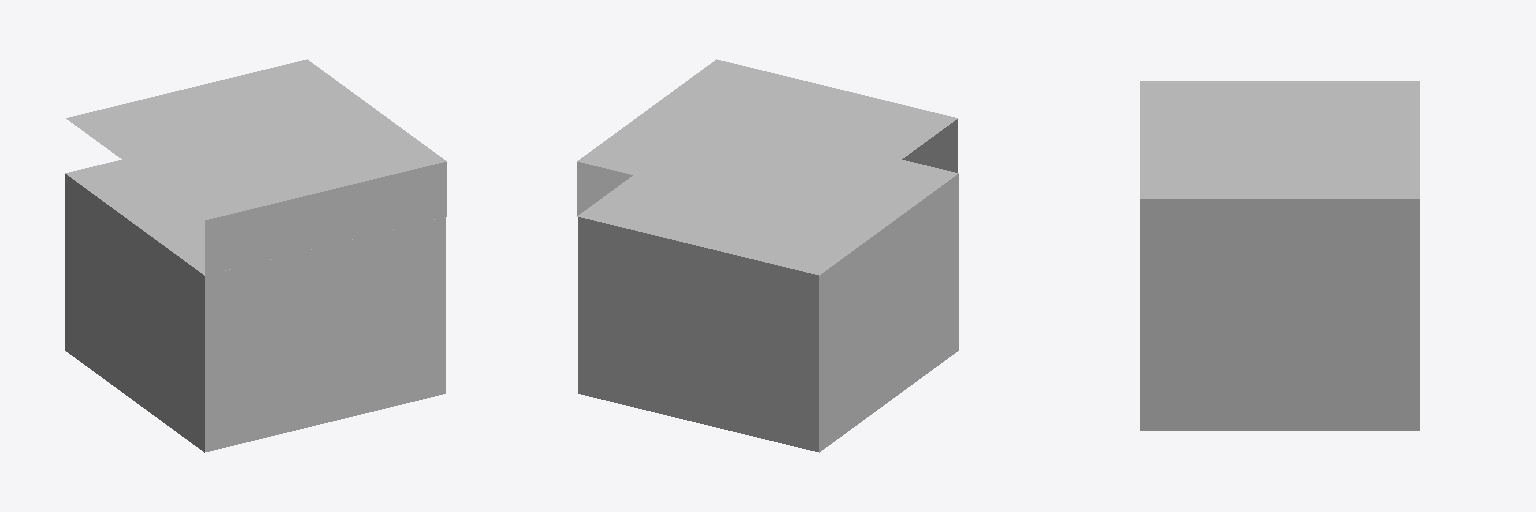
File: water_two.0db41b72.obj
3 renders of one model, left to right at view 1: azimuth 30°, elevation 25°; view 2: azimuth 150°, elevation 25°; view 3: azimuth 270°, elevation 25°, orthographic.
Visible parts, largest first — view 1: Water_two_Cube.005; view 2: Water_two_Cube.005; view 3: Water_two_Cube.005.
Part boxes in pixels (left/top/right/bottom): Water_two_Cube.005: left=65, top=59, right=446, bottom=452; Water_two_Cube.005: left=577, top=59, right=958, bottom=452; Water_two_Cube.005: left=1140, top=81, right=1419, bottom=430.
Bounding box in the file's own units: 2 × 1.83 × 2.